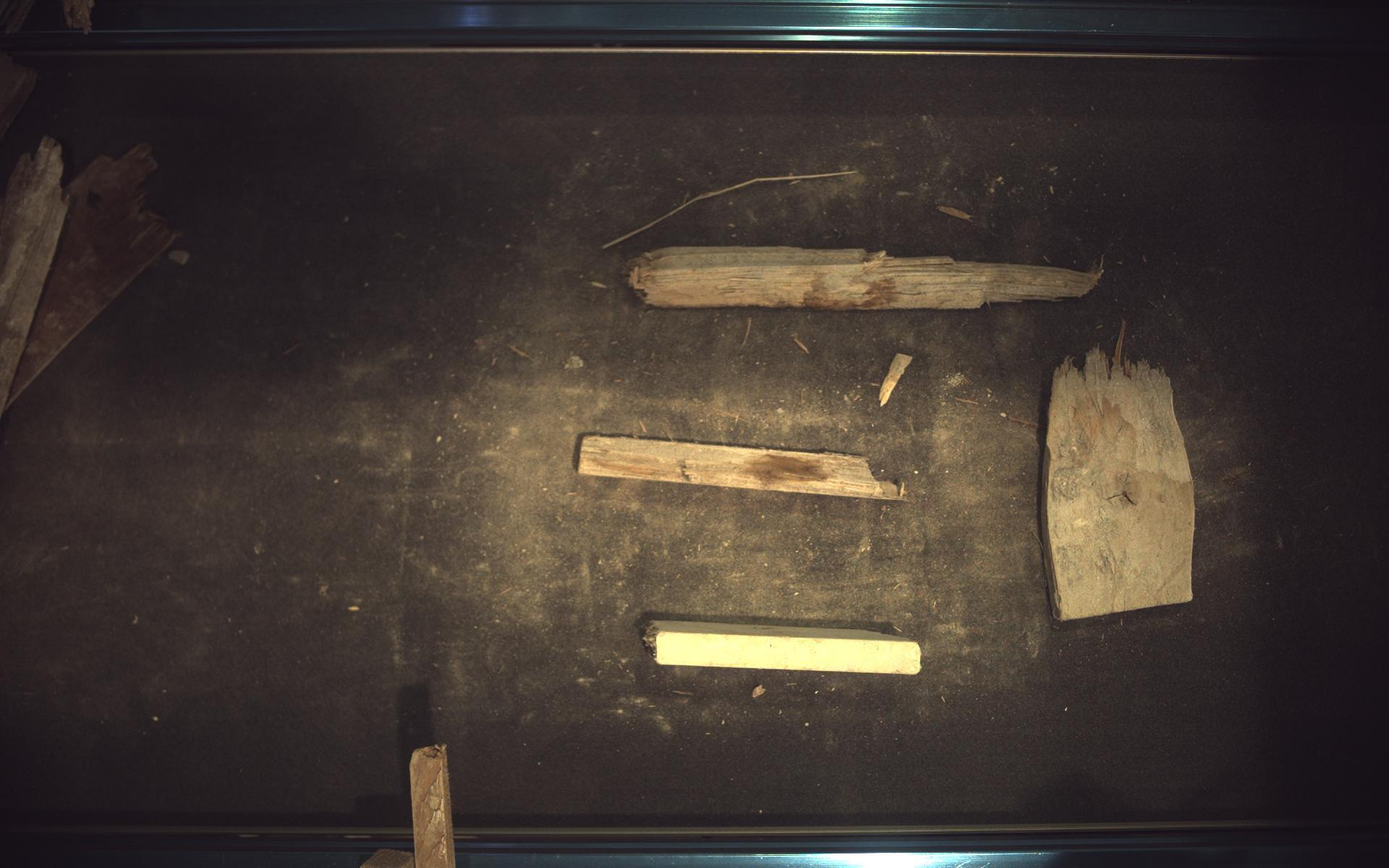wood: (1046, 326, 1197, 621), (627, 246, 1104, 310), (579, 435, 905, 500), (644, 621, 923, 676)
